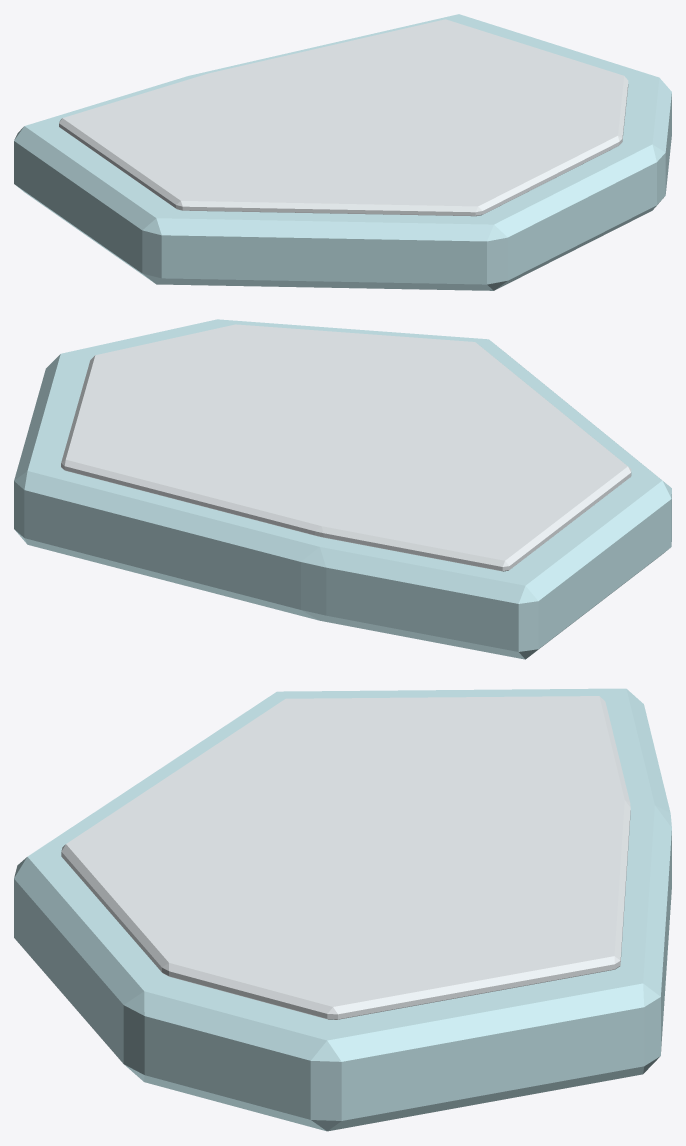
File: ice_floe_c.glb
The picture shows the model from 3 angles, top to bottom: view 1: azimuth 30°, elevation 25°; view 2: azimuth 150°, elevation 25°; view 3: azimuth 270°, elevation 25°; orthographic projection. The views are drawn at different scales.
Visible parts, largest first — view 1: ice_floe_c; view 2: ice_floe_c; view 3: ice_floe_c.
Part boxes in pixels (bbox=[...]): ice_floe_c: bbox=[14, 14, 671, 290]; ice_floe_c: bbox=[14, 319, 671, 659]; ice_floe_c: bbox=[14, 688, 671, 1131].
Size of the model in its own units: 1.72 by 0.225 by 1.31.
